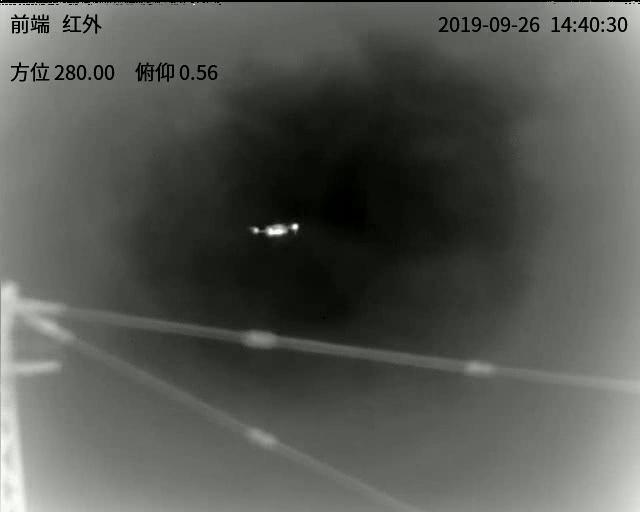DRONE: (247, 222, 300, 238)
